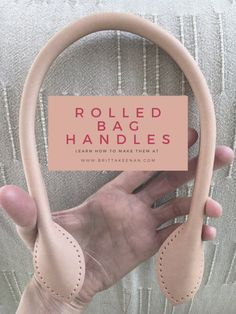cuero: (21, 10, 216, 306)
